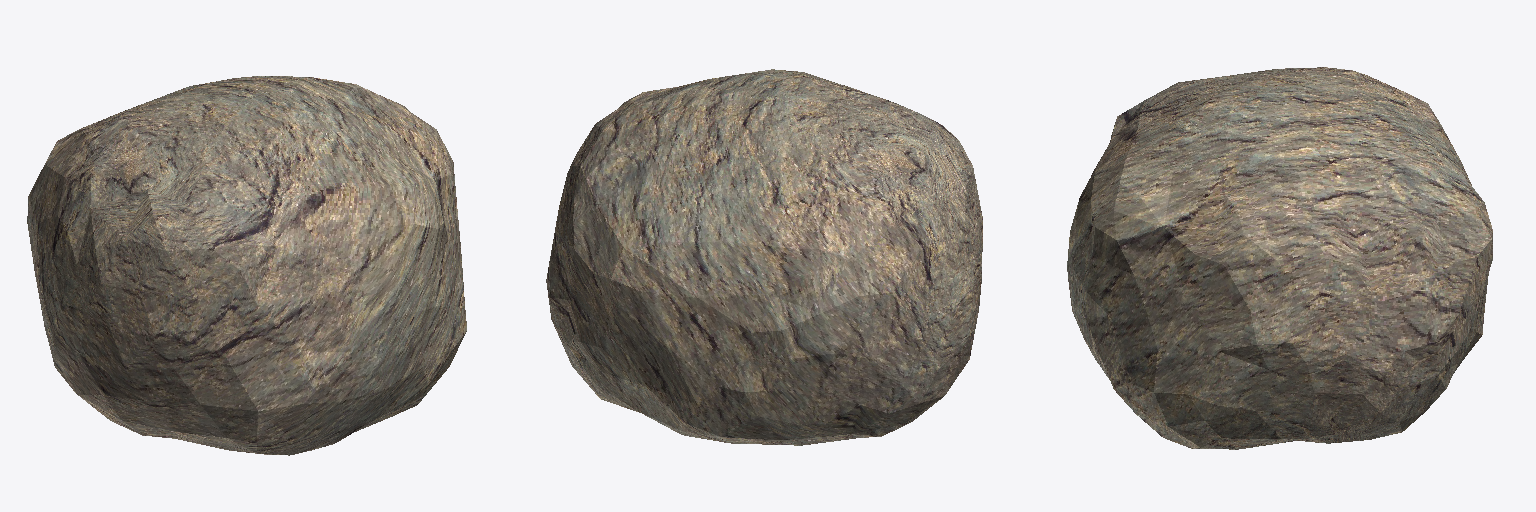
3 views of the same model, side by side, from view 1: azimuth 30°, elevation 25°; view 2: azimuth 150°, elevation 25°; view 3: azimuth 270°, elevation 25° (orthographic).
Parts seen in each view (by area): view 1: Icosphere; view 2: Icosphere; view 3: Icosphere.
Part boxes in pixels (x1,y1,x2,y2): Icosphere: (27, 76, 466, 455); Icosphere: (546, 69, 982, 445); Icosphere: (1067, 67, 1492, 449).
Size of the model in its own units: 1.73 by 1.4 by 1.68.
1 materials, 1 textured.